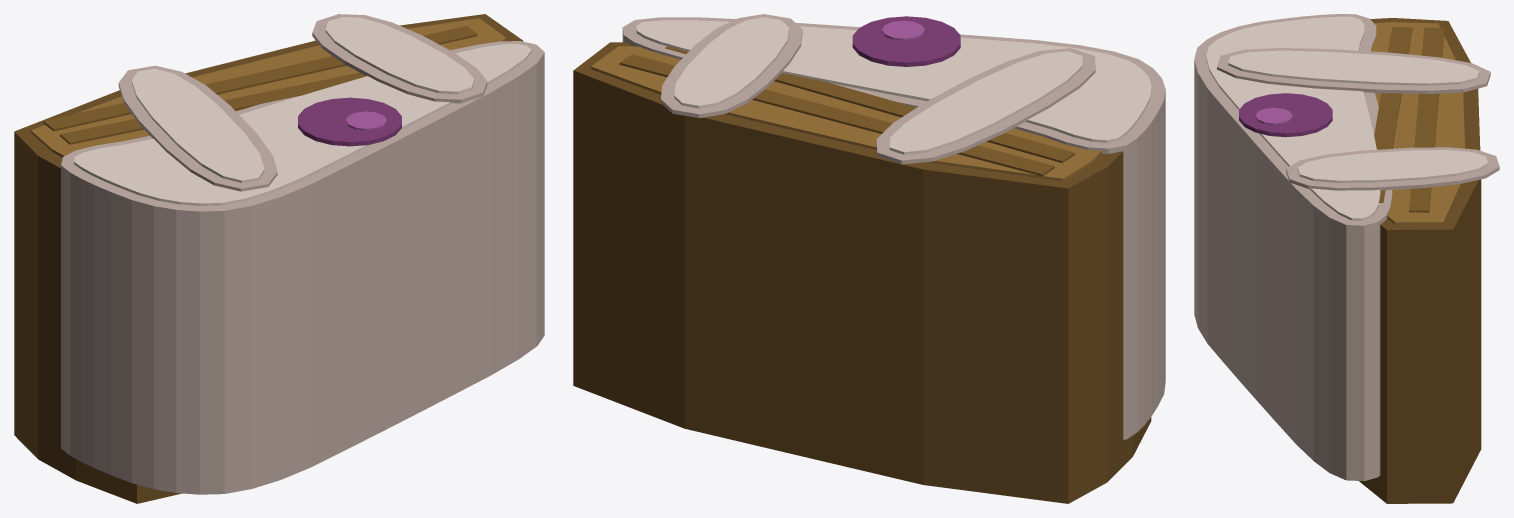
The model's file is bag_fatia_bolo.fbx.
3 renders of one model, left to right at view 1: azimuth 30°, elevation 25°; view 2: azimuth 150°, elevation 25°; view 3: azimuth 270°, elevation 25°, orthographic. The views are drawn at different scales.
Parts seen in each view (by area): view 1: bag_fatia_bolo_mochila; view 2: bag_fatia_bolo_mochila; view 3: bag_fatia_bolo_mochila.
Boxes of the visible parts, x1,y1,x2,y2 form: bag_fatia_bolo_mochila: (14, 14, 544, 503); bag_fatia_bolo_mochila: (573, 14, 1165, 503); bag_fatia_bolo_mochila: (1194, 14, 1499, 503).
Size of the model in its own units: 2.96 by 1.9 by 1.8.
1 material, 1 textured.
